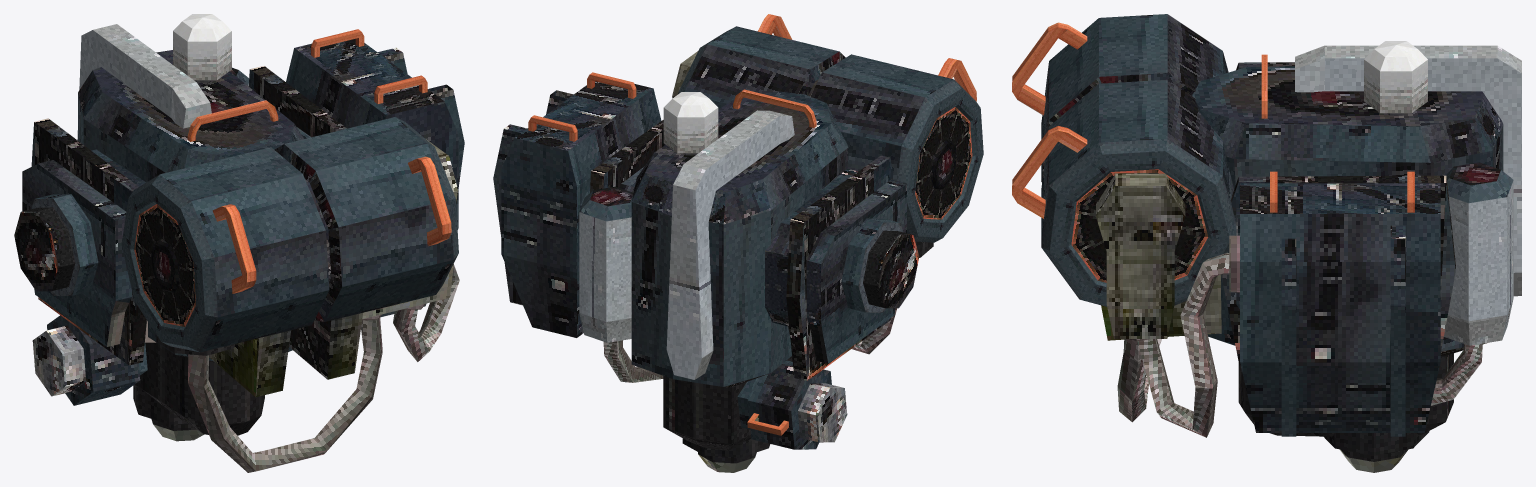
File: mech_torso.glb
3 views of the same model, side by side, from view 1: azimuth 30°, elevation 25°; view 2: azimuth 150°, elevation 25°; view 3: azimuth 270°, elevation 25° (orthographic). The views are drawn at different scales.
Visible parts, largest first — view 1: Torso; view 2: Torso; view 3: Torso.
Part boxes in pixels (left/top/right/bottom): Torso: left=14, top=14, right=464, bottom=472; Torso: left=493, top=14, right=983, bottom=472; Torso: left=1012, top=14, right=1521, bottom=472.
Size of the model in its own units: 5.43 by 5.19 by 5.46.
Materials: 1 (1 with a texture image).
